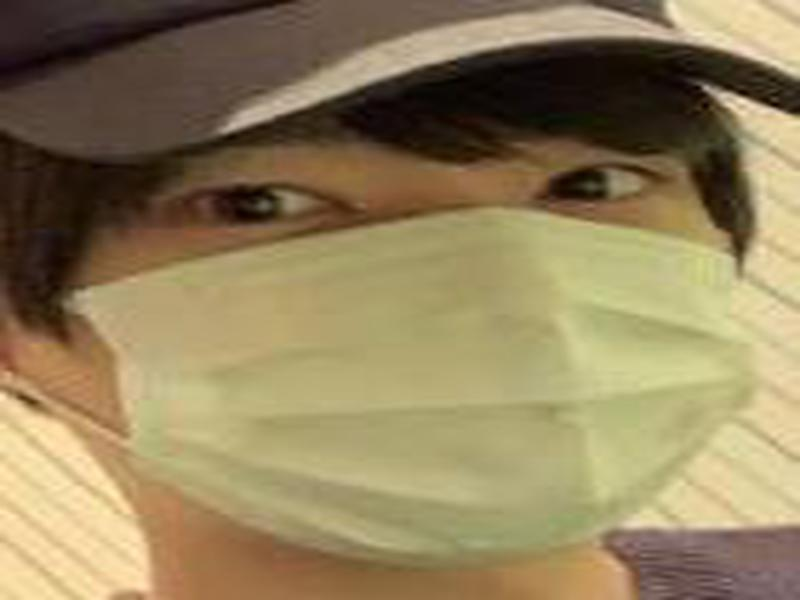with_mask: (1, 107, 758, 568)
